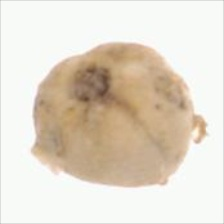L4: (32, 42, 195, 187)
